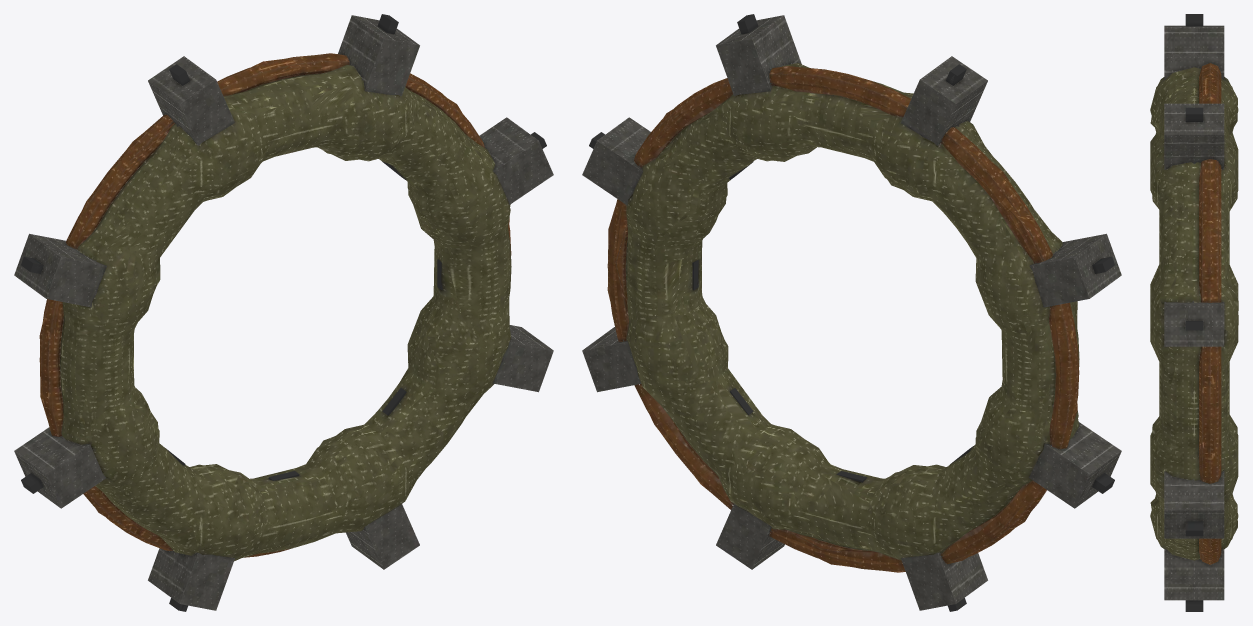
Rendered from sd_prop_gate_lonca.glb.
3 views of the same model, side by side, from view 1: azimuth 30°, elevation 25°; view 2: azimuth 150°, elevation 25°; view 3: azimuth 270°, elevation 25° (orthographic). The views are drawn at different scales.
Visible parts, largest first — view 1: LOD0_body, LOD1_body; view 2: LOD0_body, LOD1_body; view 3: LOD0_body, LOD1_body.
Part boxes in pixels (x1,y1,x2,y2): LOD0_body: (14, 14, 553, 611); LOD1_body: (33, 31, 510, 610); LOD0_body: (582, 14, 1121, 611); LOD1_body: (607, 66, 1102, 572); LOD0_body: (1150, 14, 1238, 611); LOD1_body: (1150, 63, 1238, 561).
Bounding box in the file's own units: 1 × 1 × 0.1595.
Materials: 1 (1 with a texture image).
